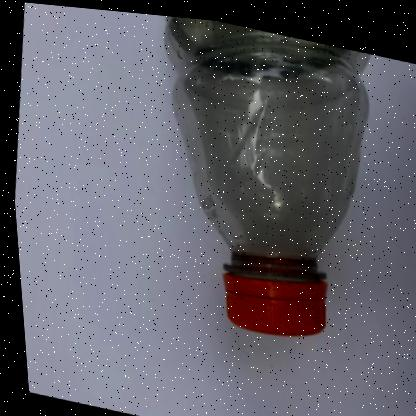Plastic: (164, 13, 370, 329)
